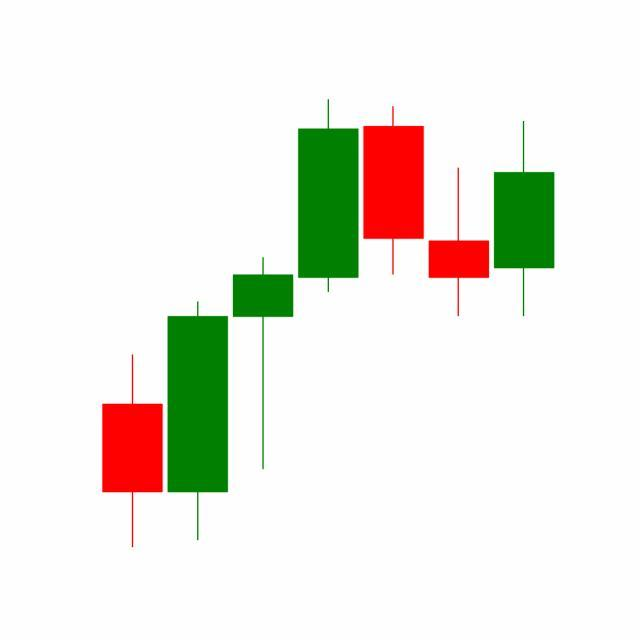Upside-Downside Gap Three Methods: (360, 105, 556, 320)
